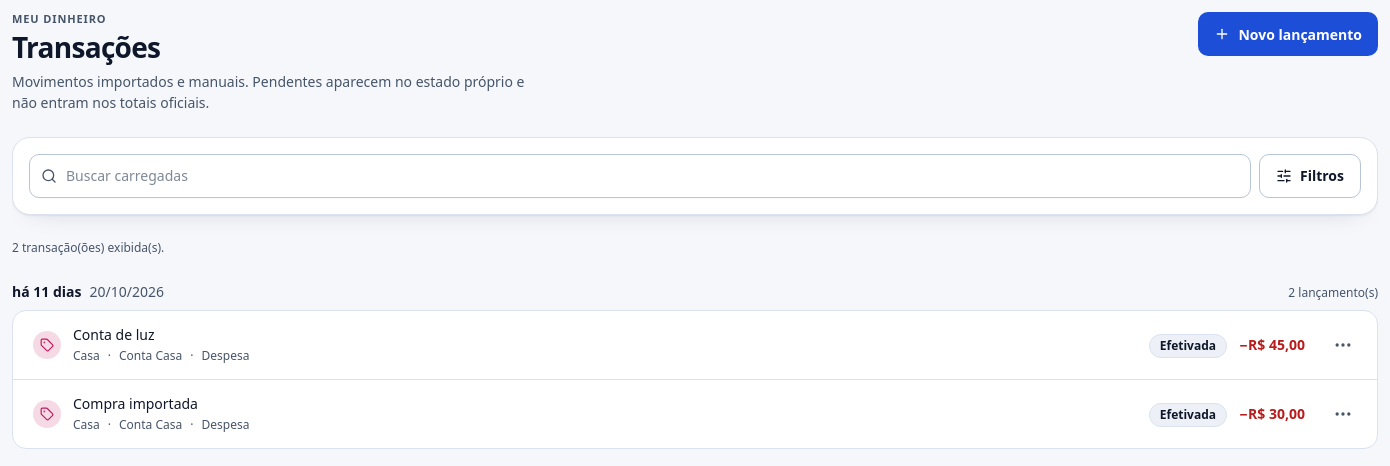
Test: exclusão de lançamento manual › busca apenas nos registros carregados
The image size is (1390, 466).
Expected: the text "Conta de luz" is shown, left=73, top=325, right=154, bottom=344
Type "luz" into the search field named "Buscar nas transações carregadas" at (640, 176), box left=29, top=154, right=1251, bottom=198
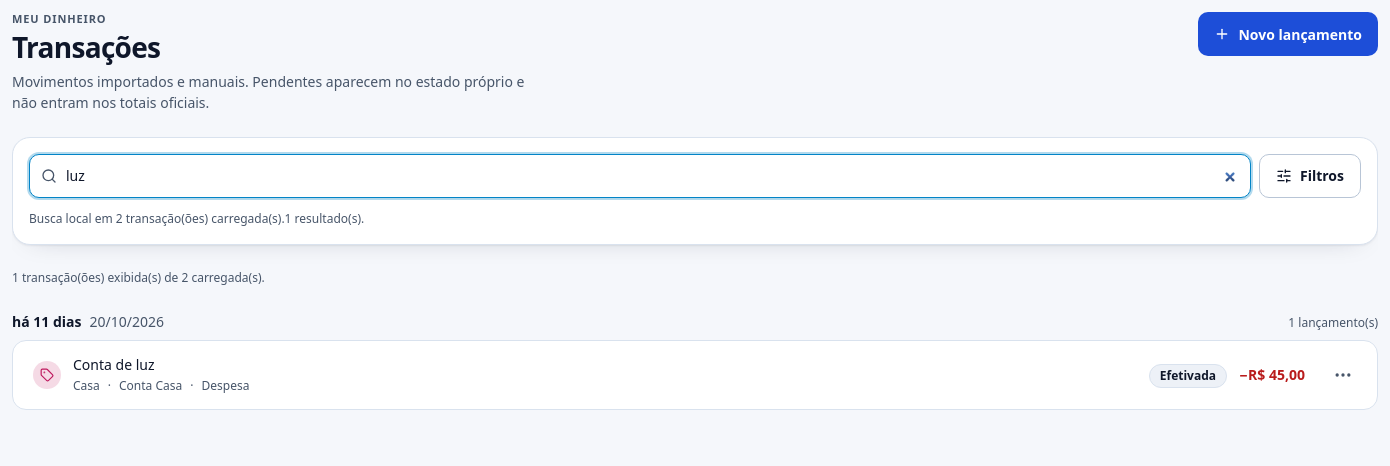
Expected: the text "Conta de luz" is shown, left=73, top=355, right=154, bottom=374
Result: the button "Compra importada" is gone
Result: the text "Busca local em 2 transação(ões) carregada(s).1 resultado(s)." is shown at left=29, top=210, right=364, bottom=227
Clear the search field named "Buscar nas transações carregadas" at (640, 176), box left=29, top=154, right=1251, bottom=198
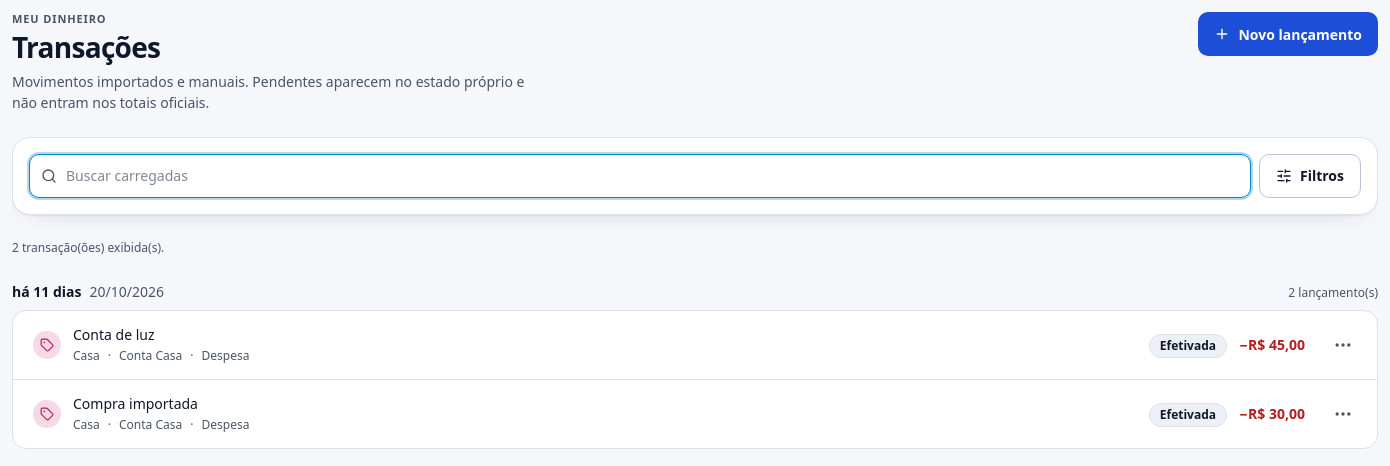
Result: the text "Compra importada" is shown at left=73, top=394, right=198, bottom=413
